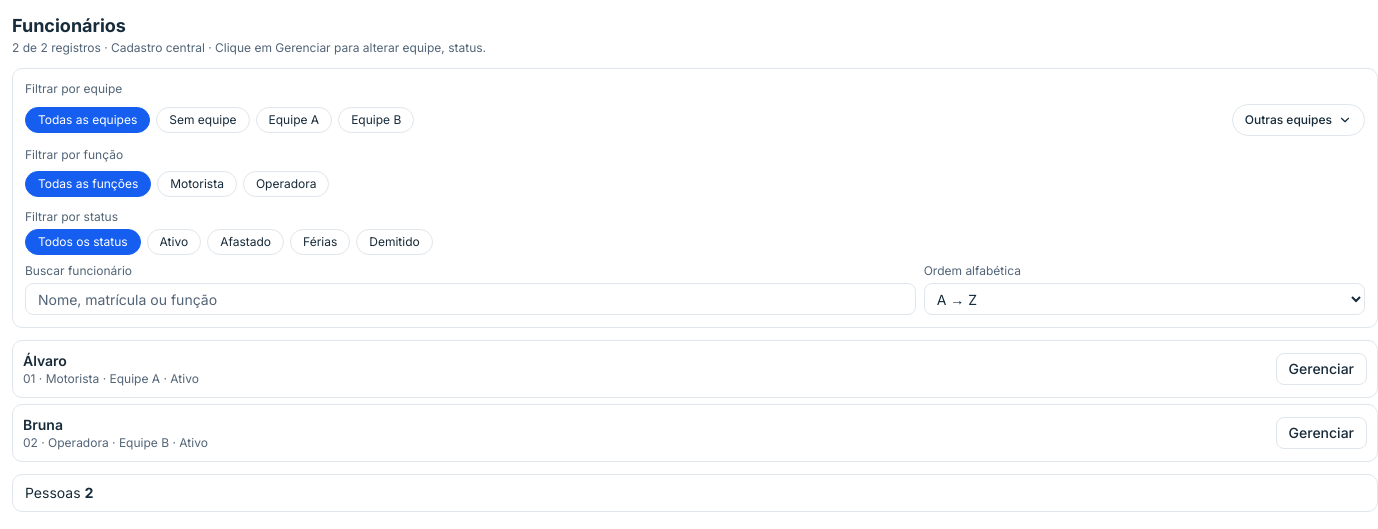
abas de listas do WF Programador › filters funcionarios using category chips instead of a dropdown
The width and height of the screenshot is (1378, 529).
Click the button "Motorista" at (197, 184), box x1=157 y1=171 x2=237 y2=197
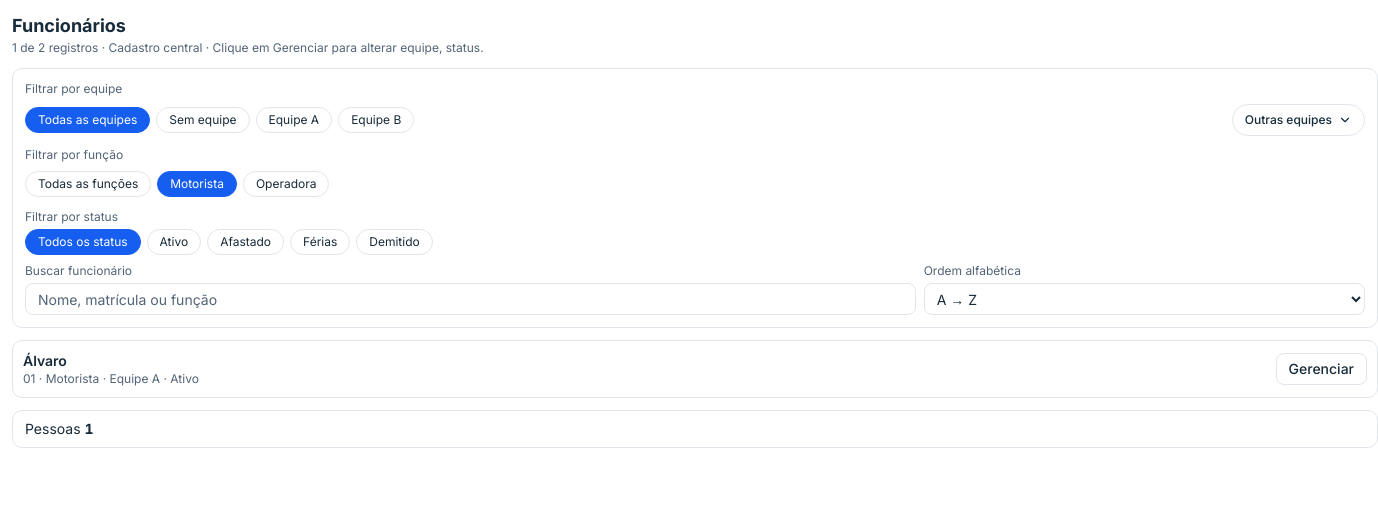
Expected: the button "Operadora" is shown, x1=243 y1=171 x2=330 y2=197
Now the text "Bruna" is gone
Now the footer named "Resumo da lista filtrada" reads "Pessoas 1", box x1=12 y1=410 x2=1377 y2=448
Click the button "Todas as funções" at (88, 184), box x1=25 y1=171 x2=151 y2=197
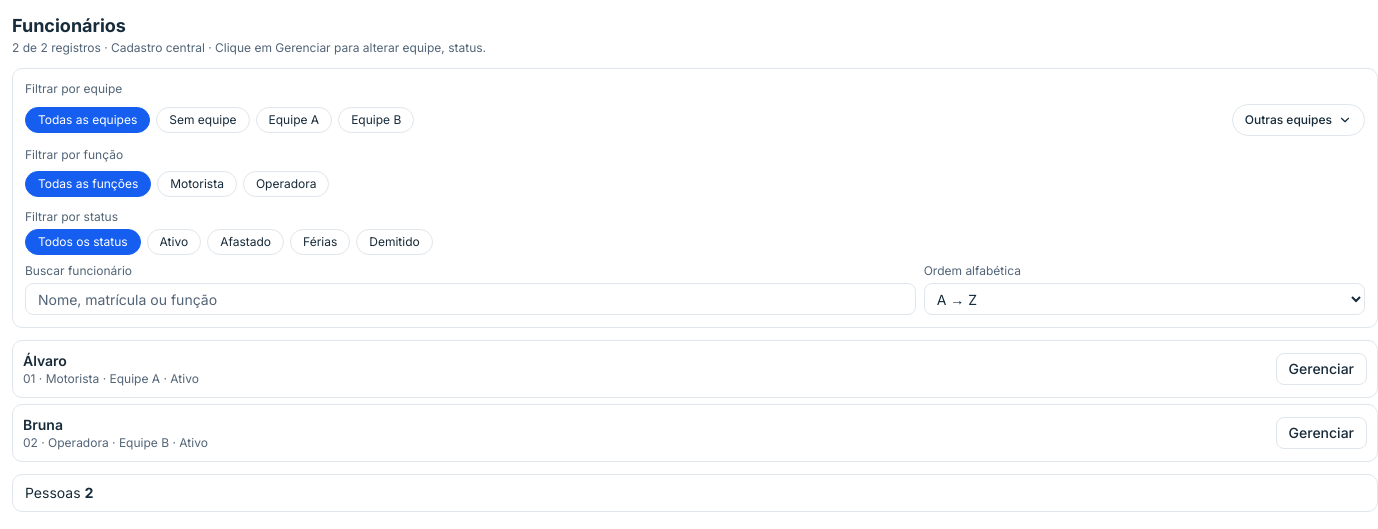
Now the footer named "Resumo da lista filtrada" reads "Pessoas 2", box x1=12 y1=474 x2=1377 y2=512
